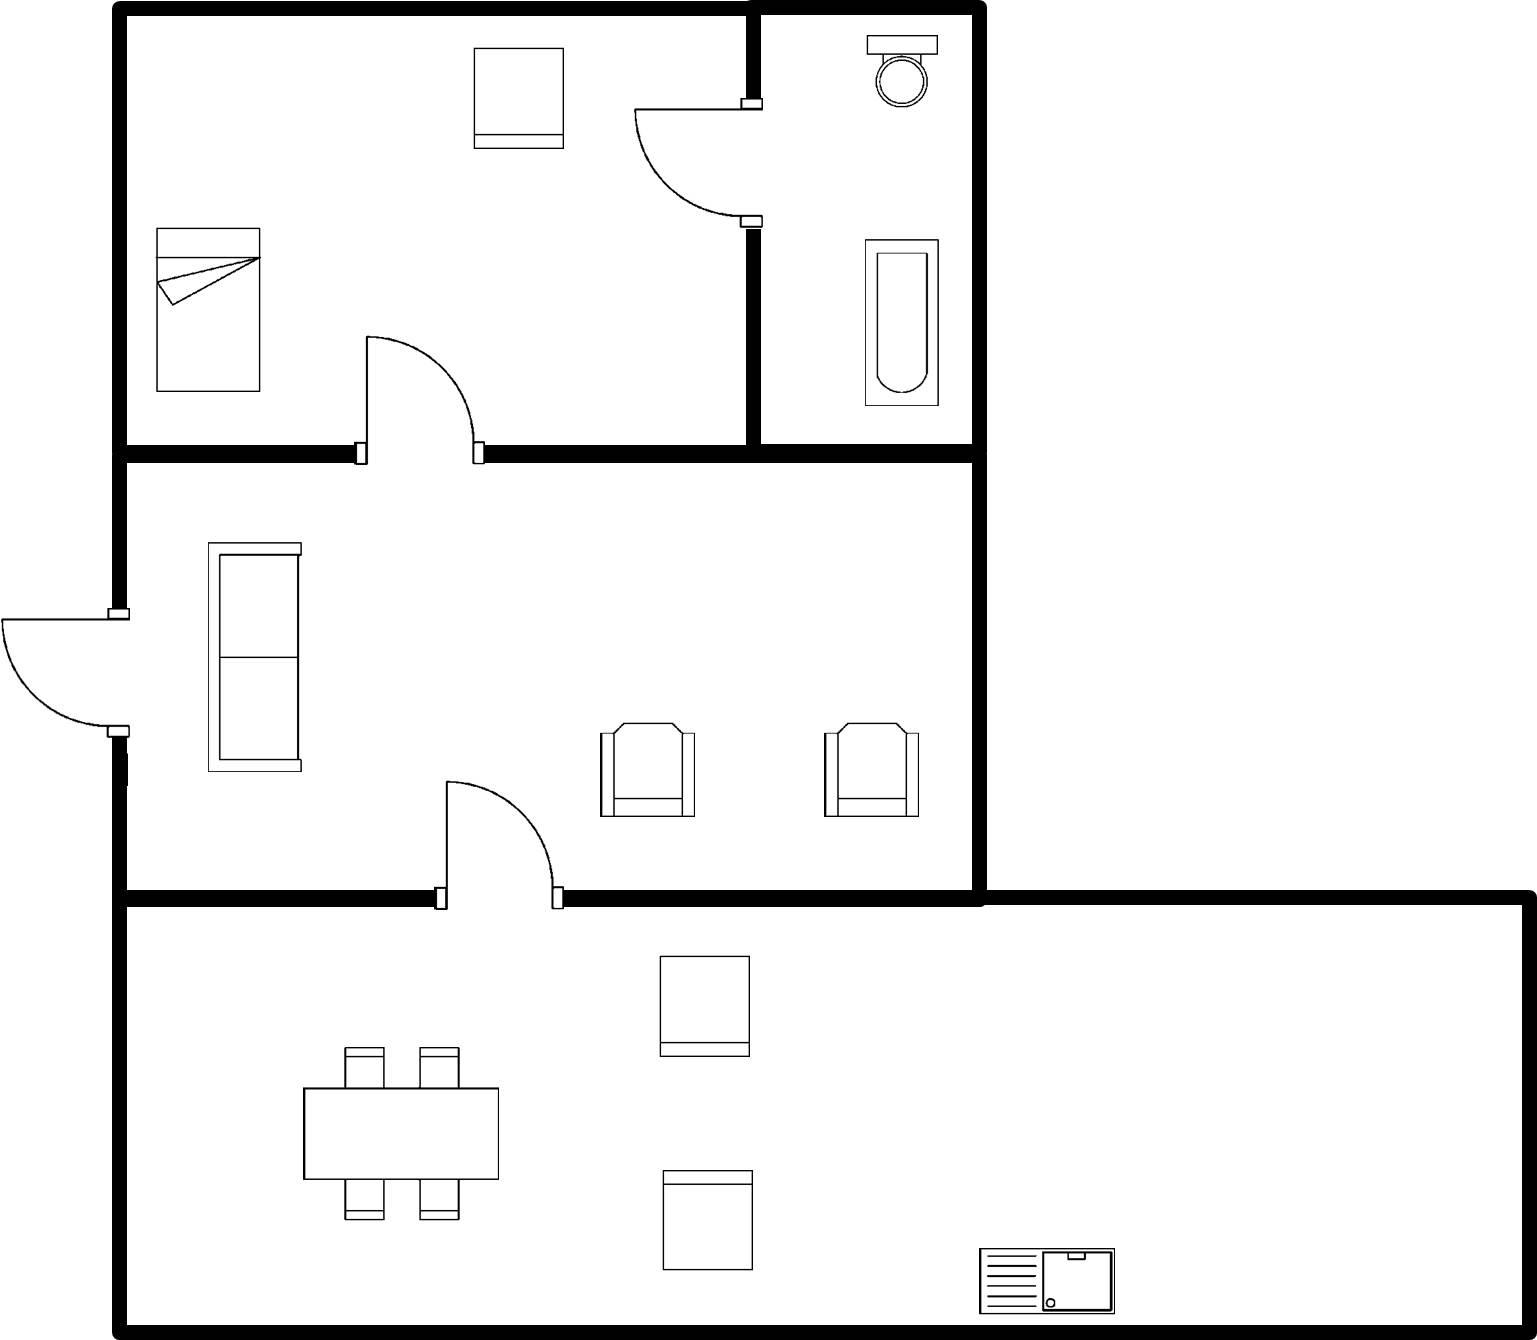bed: (144, 217, 271, 403)
dining_table: (289, 1035, 506, 1228)
sink: (967, 1235, 1121, 1320)
sofa: (197, 529, 314, 780)
toilet: (853, 25, 944, 112)
tub: (853, 229, 945, 414)
